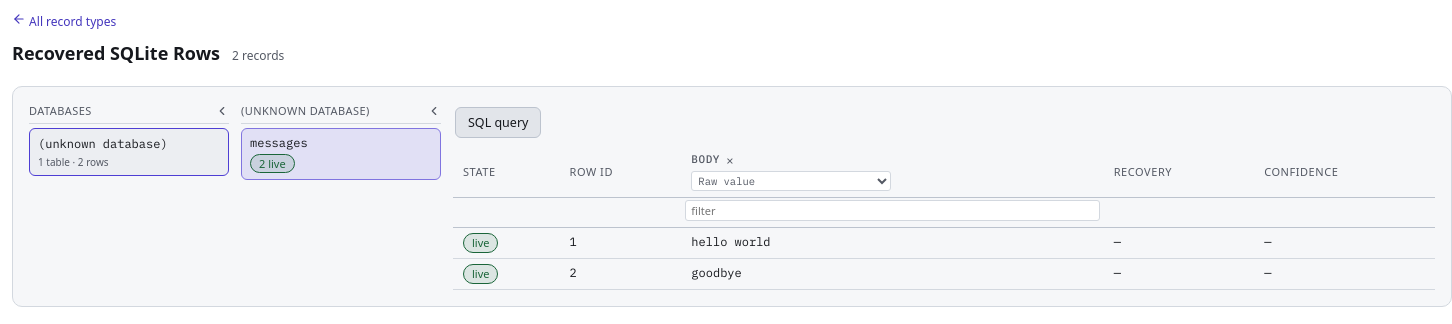
Test: SqliteViewer power tools › filters rows by a per-column value
Expected: the text "hello world" is shown, [681, 228, 1104, 259]
Type "good" into the field named "Filter body" at (893, 211), box [685, 200, 1100, 221]
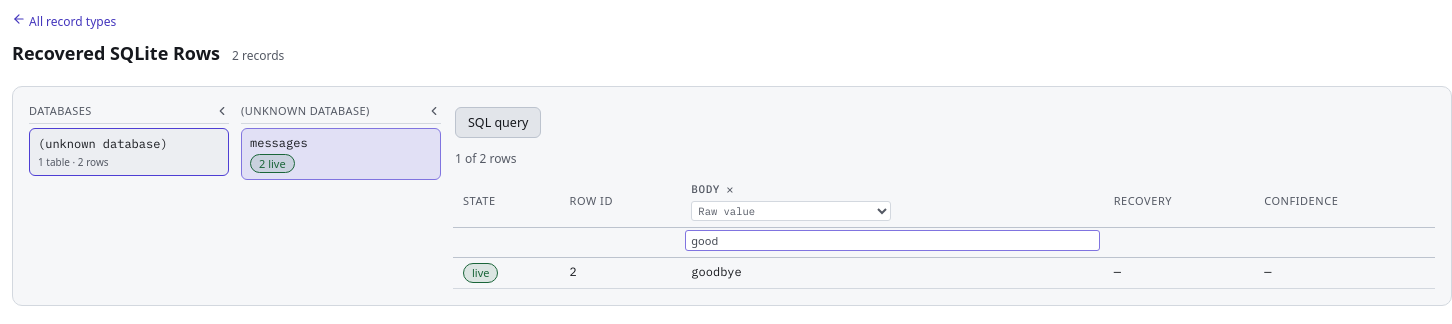
Expected: the text "goodbye" is shown, [681, 257, 1104, 288]
Result: the text "hello world" is gone
Result: the text "1 of 2 rows" is shown at [455, 150, 516, 168]
